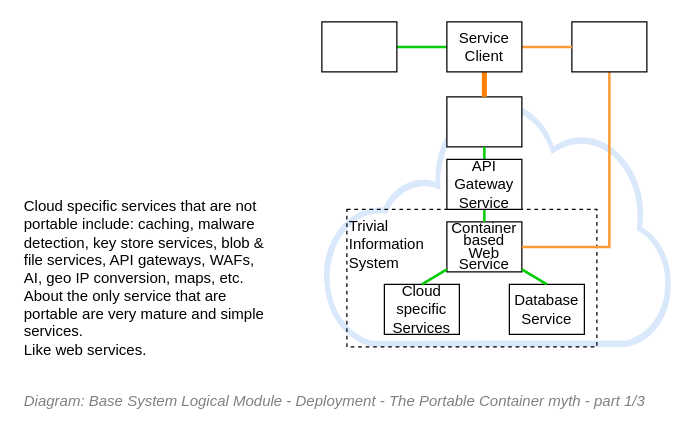
Image size: 693x444. Some labels were removed from this diagram. The centre of each missing label's shape, as x and y in pixels:
"DNS Service" goes at (x=359, y=46).
"IdP Service" goes at (x=609, y=46).
"WAF Service" goes at (x=484, y=121).
